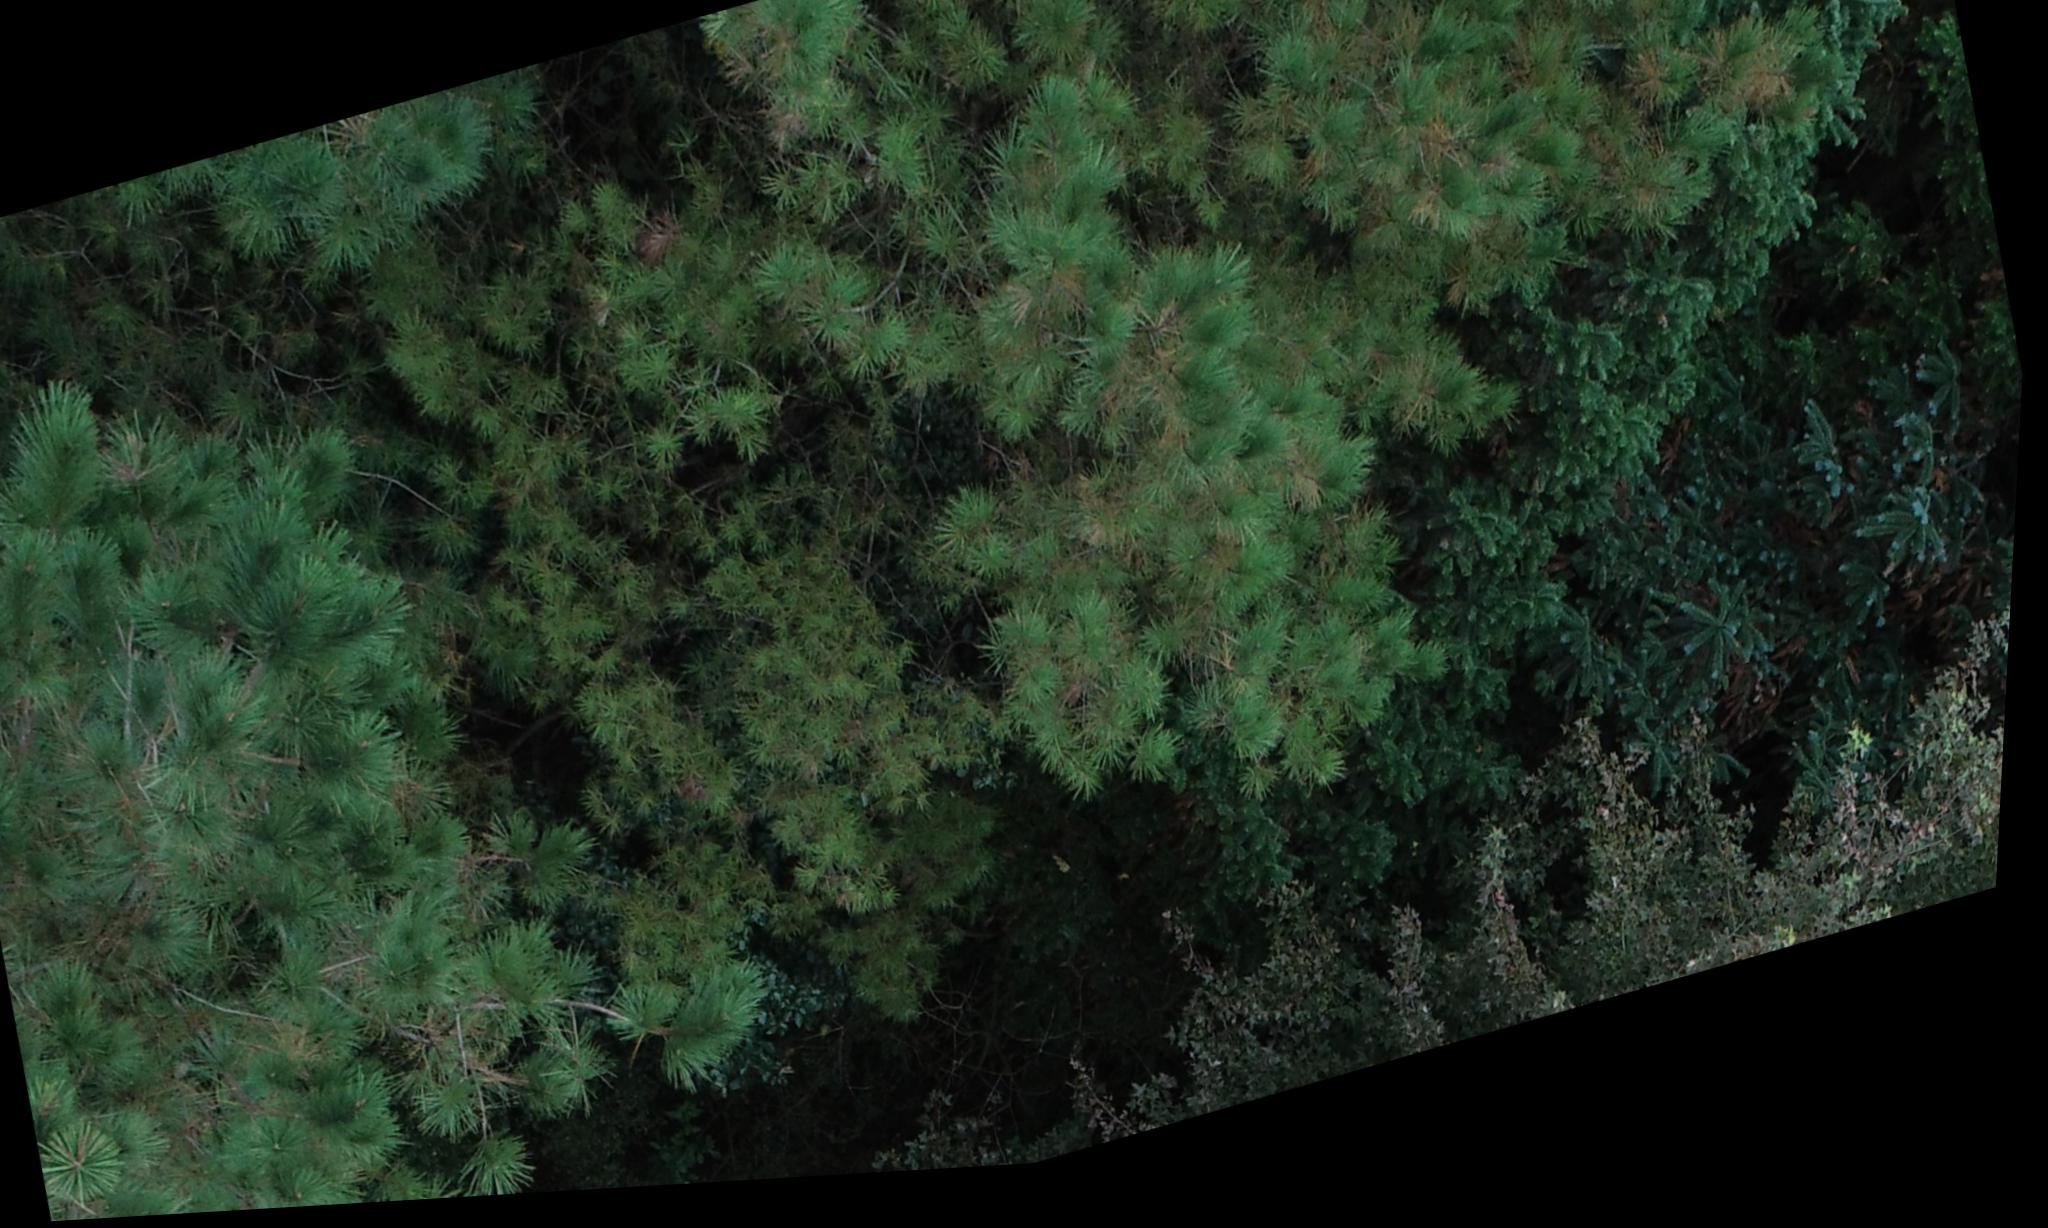light: (595, 0, 2038, 911)
